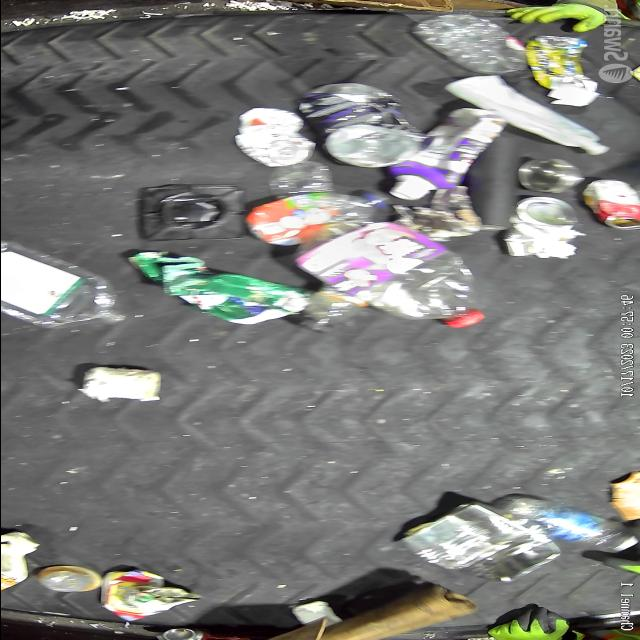can: (394, 501, 560, 582), (502, 197, 582, 259), (76, 363, 162, 402), (580, 178, 640, 229), (512, 158, 582, 194), (155, 627, 251, 640)
milk_jug: (444, 72, 608, 154)
non_white_jug: (0, 532, 39, 592)
plastic_bottle: (294, 224, 480, 327), (295, 81, 425, 168), (498, 496, 634, 552), (247, 190, 387, 244), (232, 105, 316, 167)
